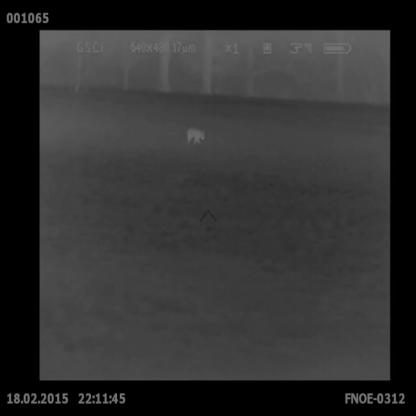rehkitze: (184, 124, 209, 146)
